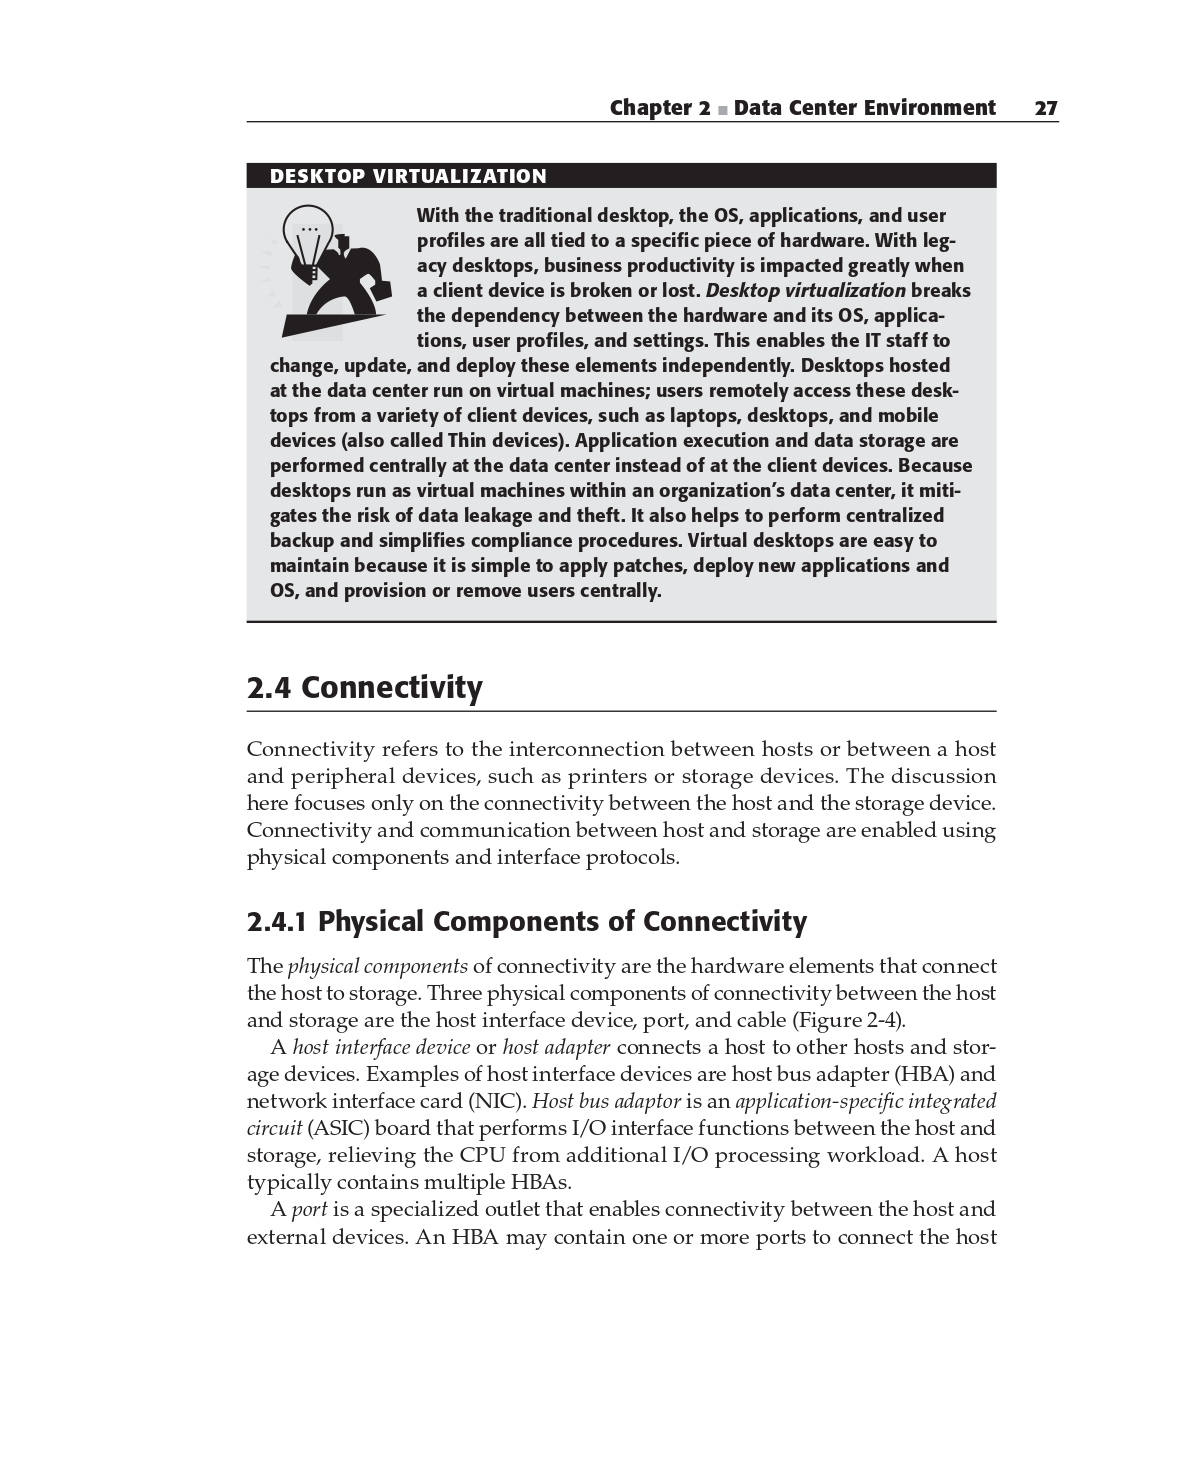Image: (269, 201, 406, 342)
Paragraph: (236, 949, 1026, 1264), (269, 354, 972, 601), (228, 725, 1005, 876), (402, 195, 981, 344), (234, 897, 815, 943), (607, 87, 1069, 122), (249, 651, 491, 710), (255, 152, 558, 187)
